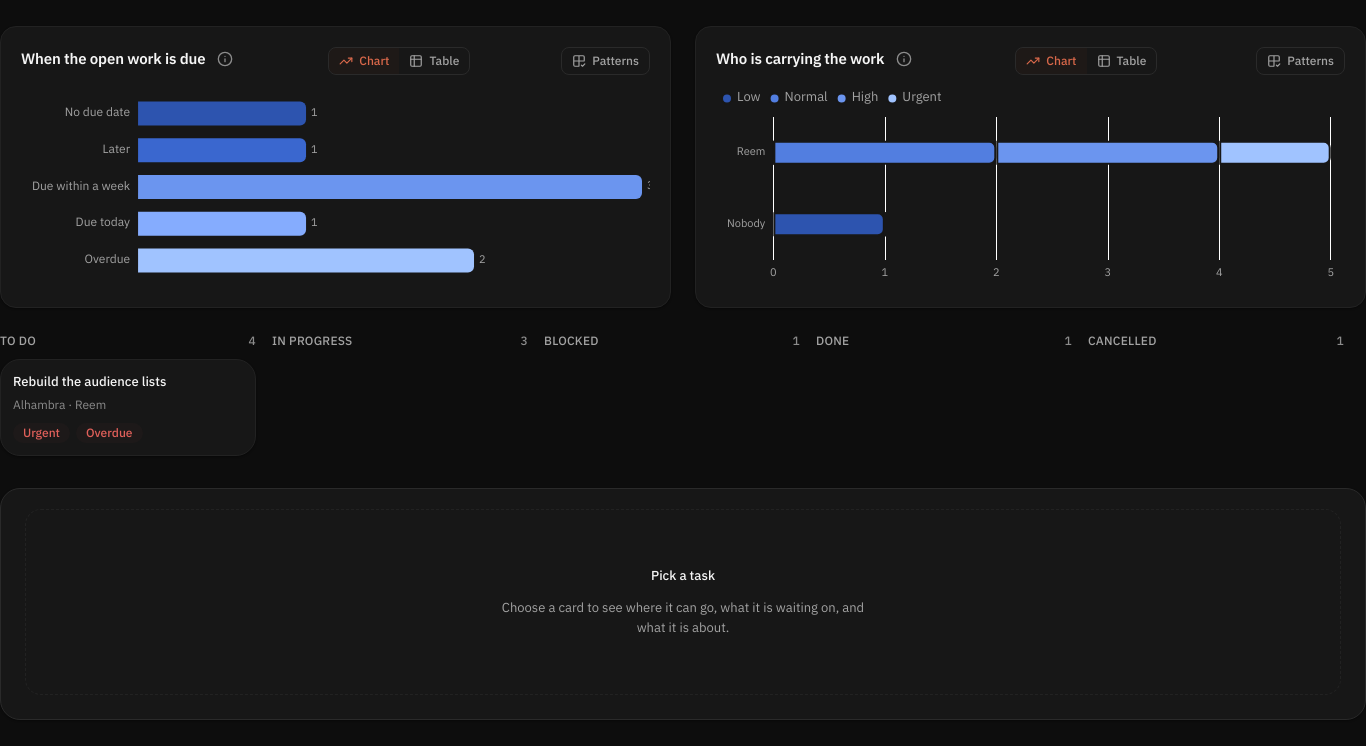
Test: a task › says a deleted subject is deleted rather than linking to nothing
The width and height of the screenshot is (1366, 746).
(page scrolled)
What coordinates should you click on to do the following:
click the button "Rebuild the audience lists Alhambra · Reem Urgent Overdue"
I would click on:
 (128, 407)
Its box is top-left (0, 359), bottom-right (256, 456).
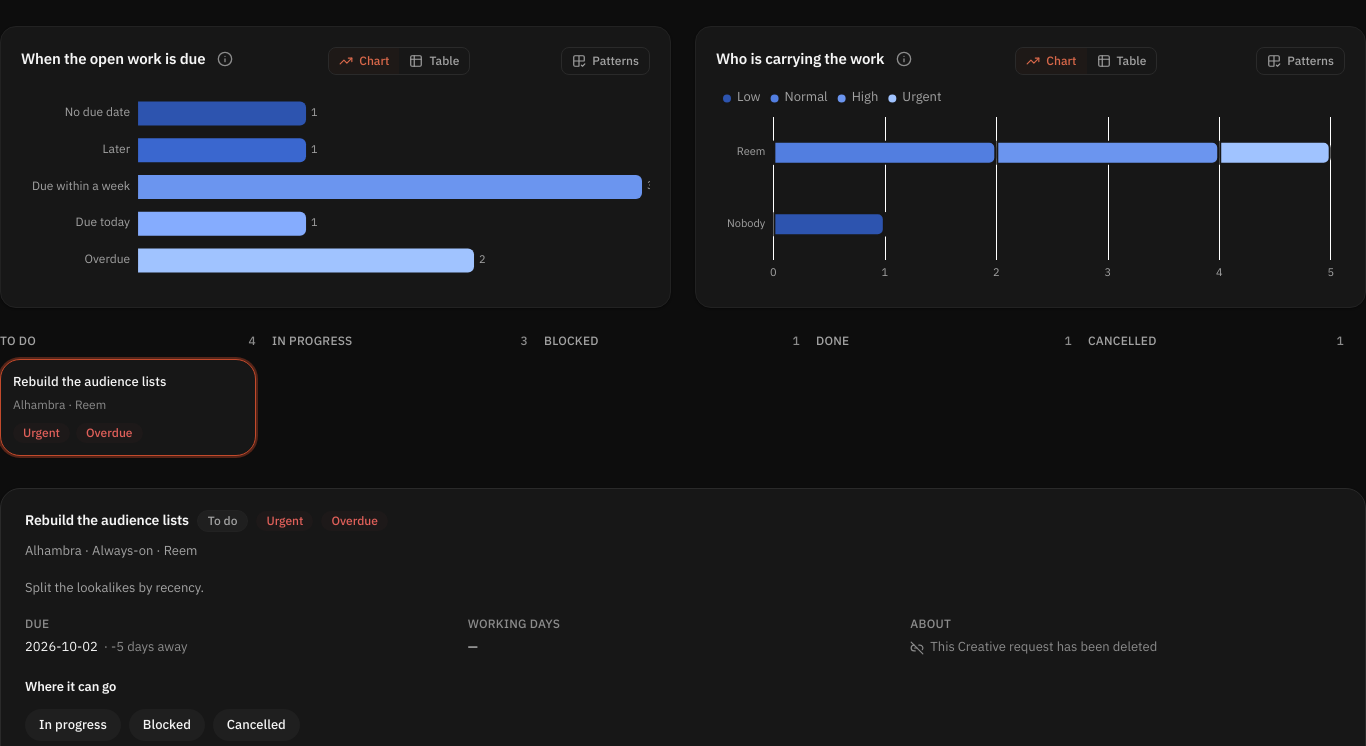
Now the text "This Creative request has been deleted" is shown, box top-left (910, 638), bottom-right (1157, 658)
